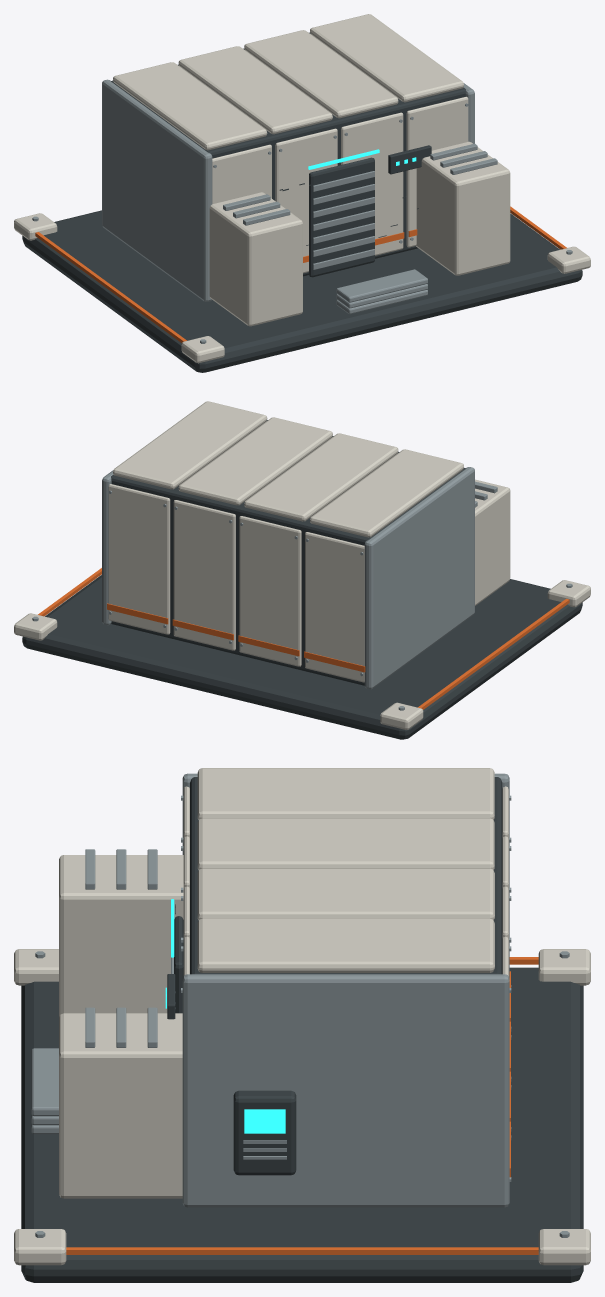
Rendered from SM_CrudeWorkshop_Body.fbx.
3 views of the same model, one above another, from view 1: azimuth 30°, elevation 25°; view 2: azimuth 150°, elevation 25°; view 3: azimuth 270°, elevation 25° (orthographic). The views are drawn at different scales.
Visible parts, largest first — view 1: SM_CrudeWorkshop_Body; view 2: SM_CrudeWorkshop_Body; view 3: SM_CrudeWorkshop_Body.
Boxes of the visible parts, bbox=[...] form: SM_CrudeWorkshop_Body: bbox=[14, 14, 590, 372]; SM_CrudeWorkshop_Body: bbox=[14, 401, 590, 739]; SM_CrudeWorkshop_Body: bbox=[14, 768, 590, 1282].
Size of the model in its own units: 572 by 462 by 243.
